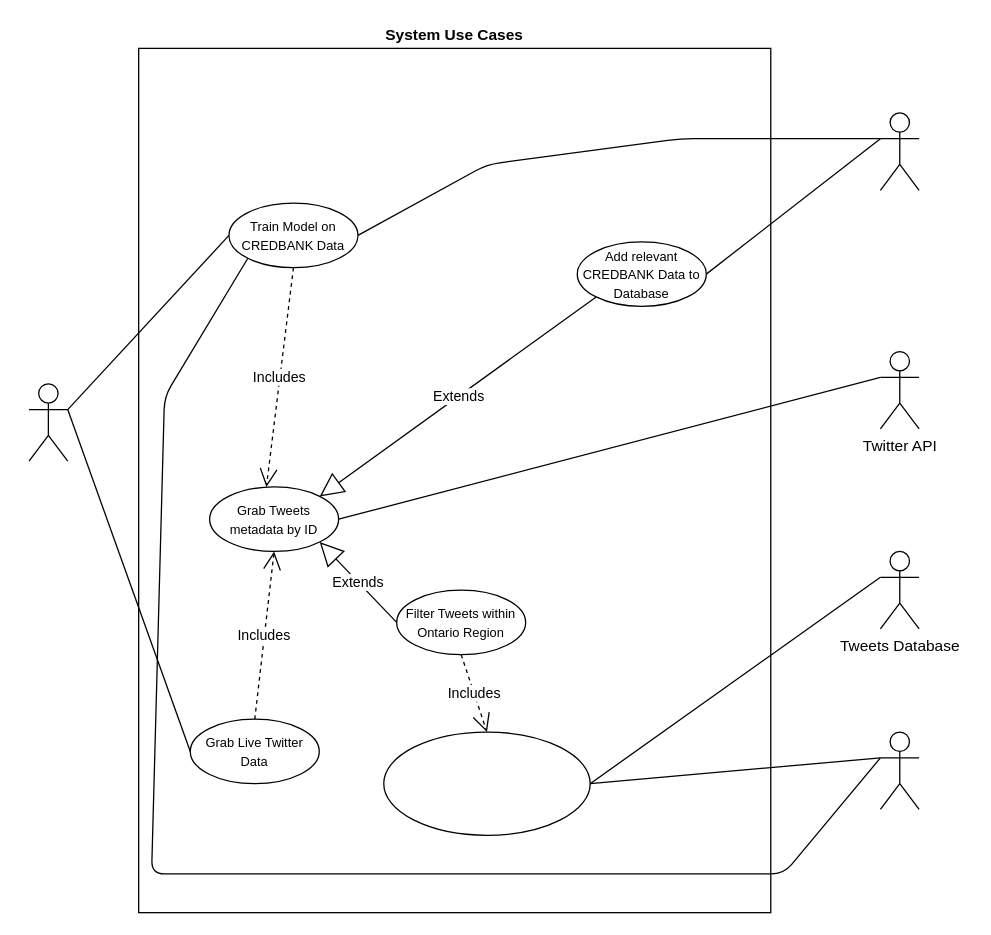
The diagram is 991 pixels wide and 935 high, and some of its shapes have lost their labels. The shapes that lost their labels are listed below. From the top down, each one's centre as x and y in pixels, then its label:
At (x=899, y=151): "Credbank Database".
At (x=48, y=421): "System".
At (x=486, y=783): "Predict Tweet as Disaster or Not and Add Disastrous Tweets to Database".
At (x=899, y=770): "Analysis Model".
